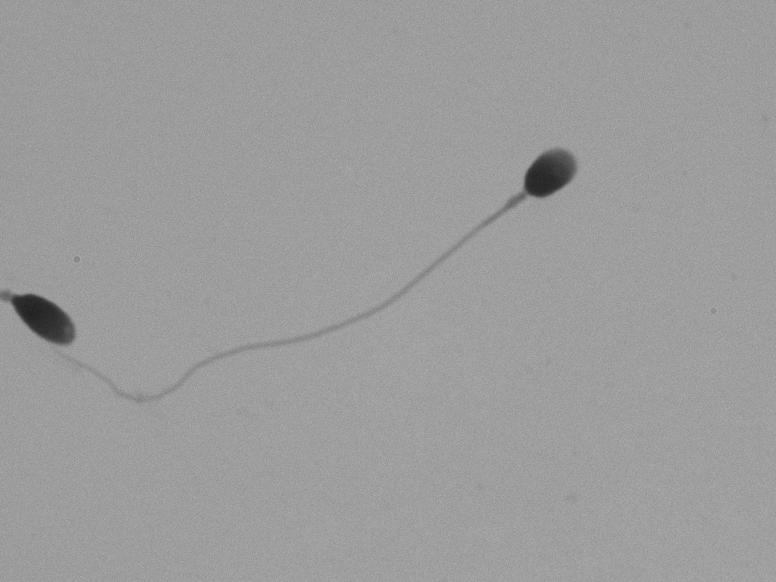Abnormal: (3, 203, 81, 417)
Normal: (95, 123, 646, 447)
